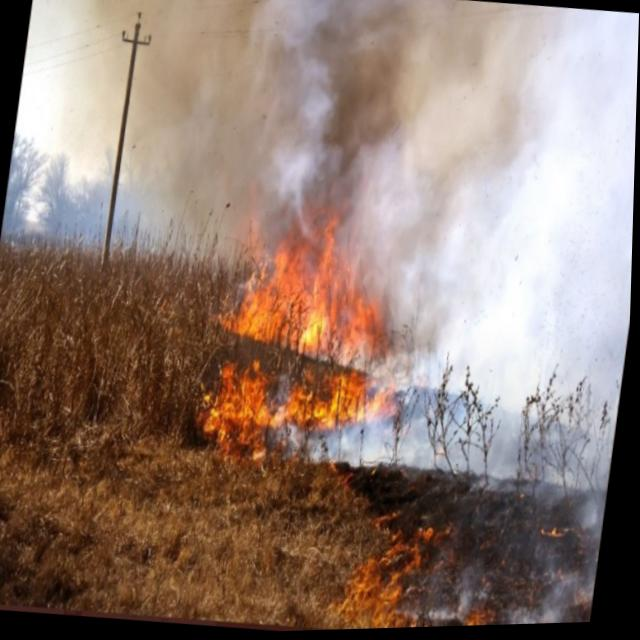Fire: (185, 218, 435, 476), (287, 452, 612, 633)
